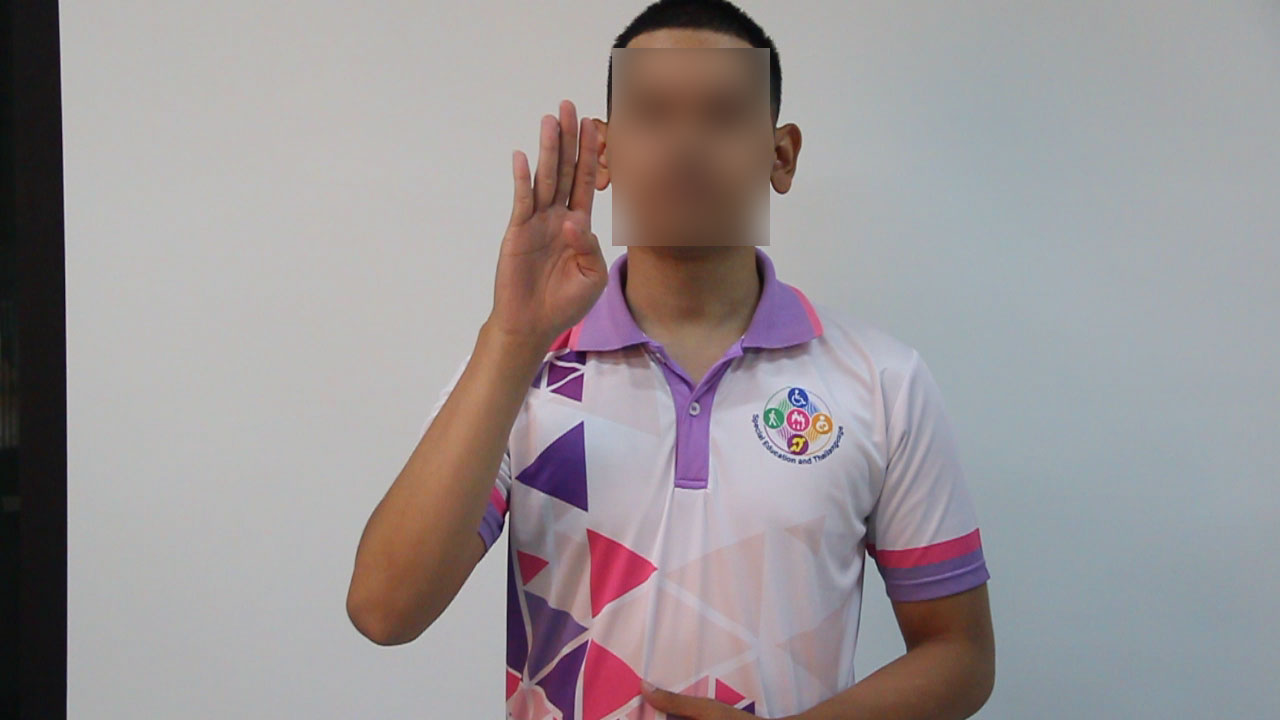bor: (479, 88, 625, 378)
